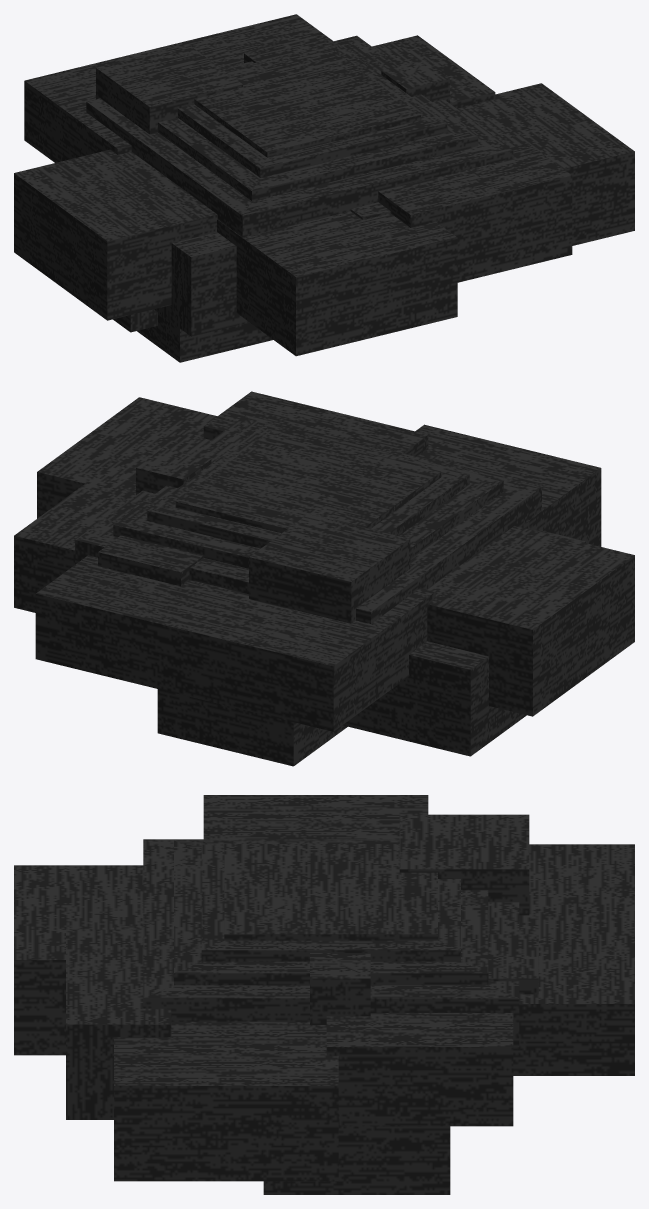
File: plat_hor3.fbx
3 renders of one model, top to bottom at view 1: azimuth 30°, elevation 25°; view 2: azimuth 150°, elevation 25°; view 3: azimuth 270°, elevation 25°, orthographic. The views are drawn at different scales.
Visible parts, largest first — view 1: Cube.003; view 2: Cube.003; view 3: Cube.003.
Part boxes in pixels (bbox=[...]): Cube.003: bbox=[14, 14, 634, 362]; Cube.003: bbox=[14, 391, 634, 766]; Cube.003: bbox=[14, 795, 634, 1194].
Bounding box in the file's own units: 1250 × 520 × 1140.
